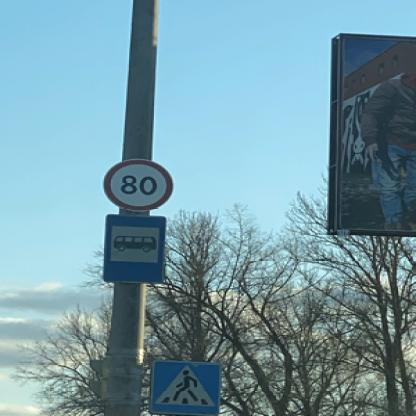Speed Limit 80: (104, 159, 174, 210)
